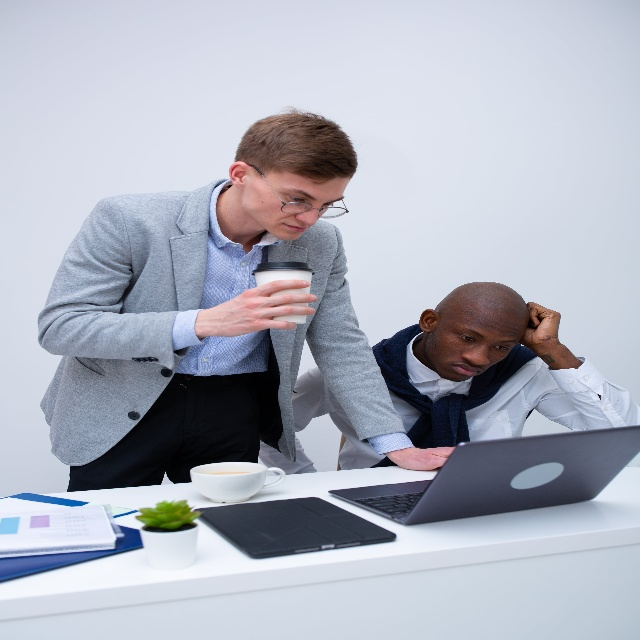Gafas: (245, 160, 349, 219)
Sin_guantes: (215, 280, 319, 338), (519, 300, 561, 349), (404, 445, 456, 471)
